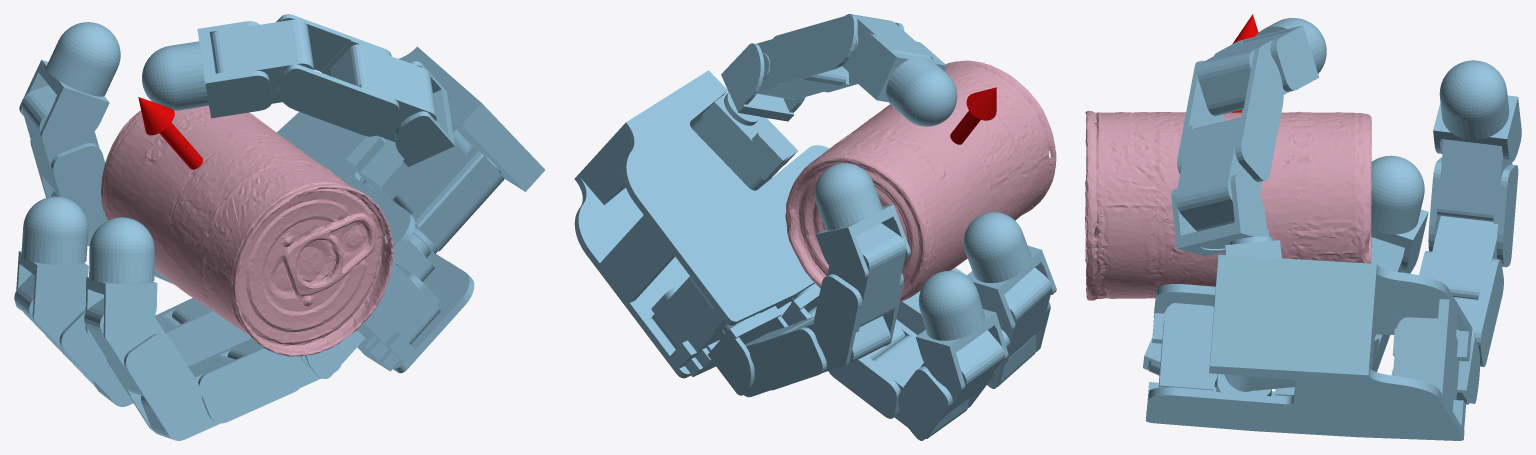
The picture shows the model from 3 angles, left to right: view 1: azimuth 30°, elevation 25°; view 2: azimuth 150°, elevation 25°; view 3: azimuth 270°, elevation 25°; orthographic projection. The views are drawn at different scales.
Visible parts, largest first — view 1: world, tomato_soup_can.stl; view 2: world, tomato_soup_can.stl; view 3: world, tomato_soup_can.stl.
Part boxes in pixels (<box>): world: <box>14,14,544,440</box>; tomato_soup_can.stl: <box>101,106,393,356</box>; world: <box>574,14,1056,440</box>; tomato_soup_can.stl: <box>785,60,1056,302</box>; world: <box>1143,14,1521,440</box>; tomato_soup_can.stl: <box>1085,110,1371,300</box>.
Size of the model in its own units: 0.1939 by 0.1568 by 0.1551.
